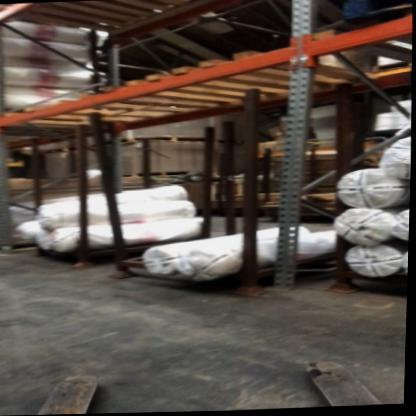vertical_damage: (270, 258, 300, 299), (1, 234, 20, 258)
